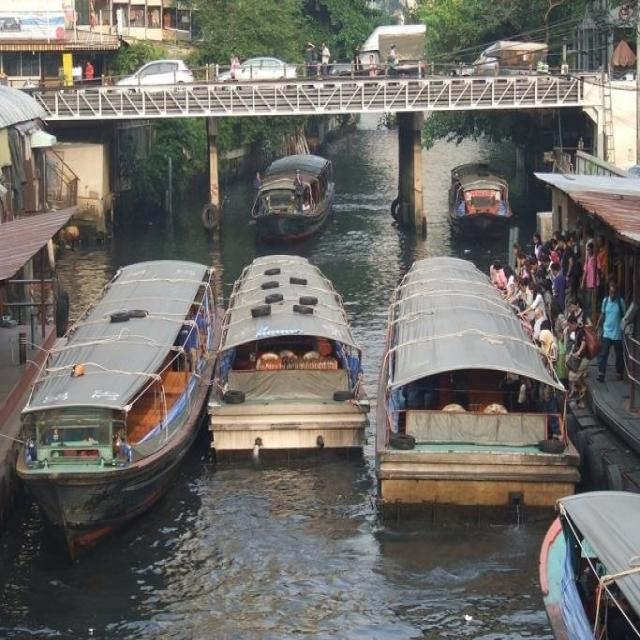boat: (11, 250, 216, 550), (368, 243, 586, 521), (204, 246, 372, 464), (248, 156, 339, 242), (435, 162, 518, 238)
